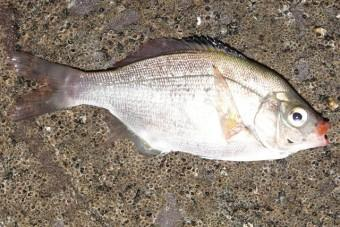fish: (10, 35, 330, 162)
